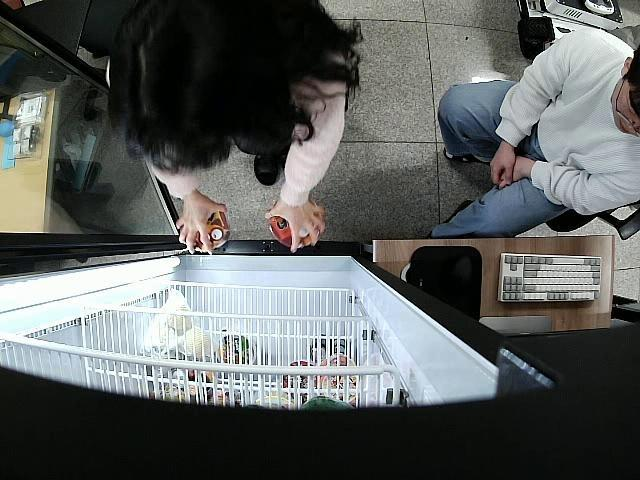05_nuguri_L: (193, 211, 230, 254), (272, 214, 314, 250)
